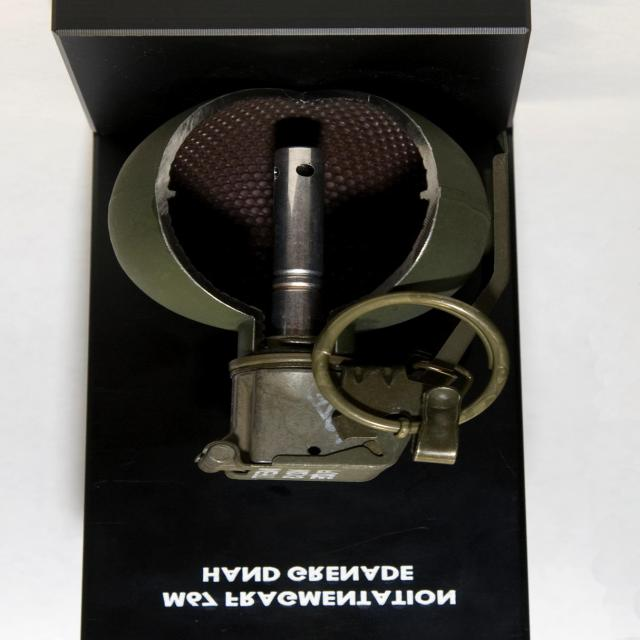grenade: (109, 88, 510, 483)
